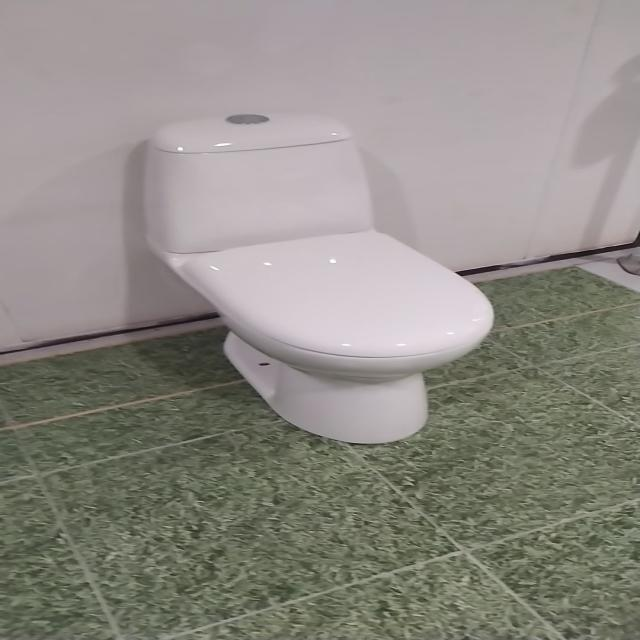toilet: (140, 112, 495, 444)
